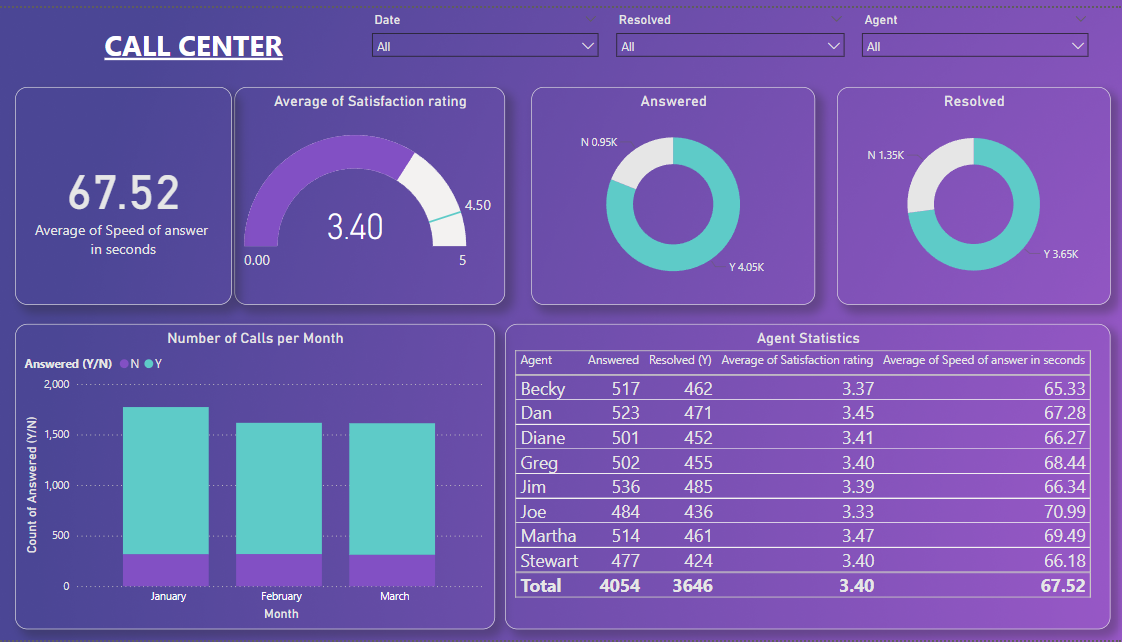

The page's visual inventory and layout, read from the dashboard file:
{"tool":"powerbi","page":{"name":"Page 1","canvas":[1280,720],"ordinal":0},"visuals":[{"type":"slicer","fields":{"Values":["Sheet1.Agent"]},"box":[973.3,0,278.3,75],"z":0},{"type":"slicer","fields":{"Values":["Sheet1.Resolved"]},"box":[693.3,0,280,75],"z":1000},{"type":"slicer","fields":{"Values":["Sheet1.Date"]},"box":[415,0,278.3,75],"z":2000},{"type":"gauge","title":"Average of Satisfaction rating ","fields":{"Y":["Sheet1.Satisfaction rating"],"MaxValue":["Sum(Sheet1.Satisfaction rating)1"]},"box":[268.3,90,308.3,248.3],"z":3000},{"type":"donutChart","title":"Answered ","fields":{"Category":["Sheet1.Answered (Y/N)"],"Y":["Sheet1.Answered (Y/N)"]},"box":[606.7,90,323.3,248.3],"z":4000},{"type":"donutChart","title":" Resolved","fields":{"Category":["Sheet1.Resolved"],"Y":["Sheet1.Resolved"]},"box":[955,90,311.7,248.3],"z":5000},{"type":"card","fields":{"Values":["Sheet1.Speed of answer in seconds"]},"box":[18.3,90,246.7,248.3],"z":6000},{"type":"columnChart","title":"Number of Calls per Month","fields":{"Category":["Sheet1.Date.Variation.Date Hierarchy.Month"],"Y":["Sheet1.Answered (Y/N)"],"Series":["Sheet1.Answered (Y/N)"]},"box":[18.3,360,546.7,348.3],"z":7000},{"type":"tableEx","title":"Agent Statistics","fields":{"Values":["Sheet1.Agent","Sheet1.Answered","Sheet1.Resolved (Y)","Sheet1.Satisfaction rating","Sheet1.Speed of answer in seconds"]},"box":[576.7,360,690,348.3],"z":8000},{"type":"textbox","box":[41.7,15,360,55],"z":9000}]}

Visuals, with their boxes in screenshot pixels (x1, y1, x2, y2), scaled from the page's 1280x720 canvas onto the 1122x642 screenshot:
slicer - Sheet1.Agent: [x1=853, y1=0, x2=1097, y2=67]
slicer - Sheet1.Resolved: [x1=608, y1=0, x2=853, y2=67]
slicer - Sheet1.Date: [x1=364, y1=0, x2=608, y2=67]
"Average of Satisfaction rating " gauge: [x1=235, y1=80, x2=505, y2=302]
"Answered " donutChart: [x1=532, y1=80, x2=815, y2=302]
" Resolved" donutChart: [x1=837, y1=80, x2=1110, y2=302]
card - Sheet1.Speed of answer in seconds: [x1=16, y1=80, x2=232, y2=302]
"Number of Calls per Month" columnChart: [x1=16, y1=321, x2=495, y2=632]
"Agent Statistics" tableEx: [x1=506, y1=321, x2=1110, y2=632]
textbox: [x1=37, y1=13, x2=352, y2=62]
